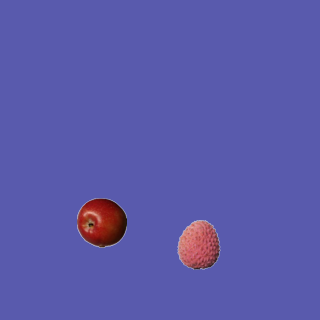Apple Braeburn: (76, 197, 126, 247)
Lychee: (173, 219, 223, 269)
